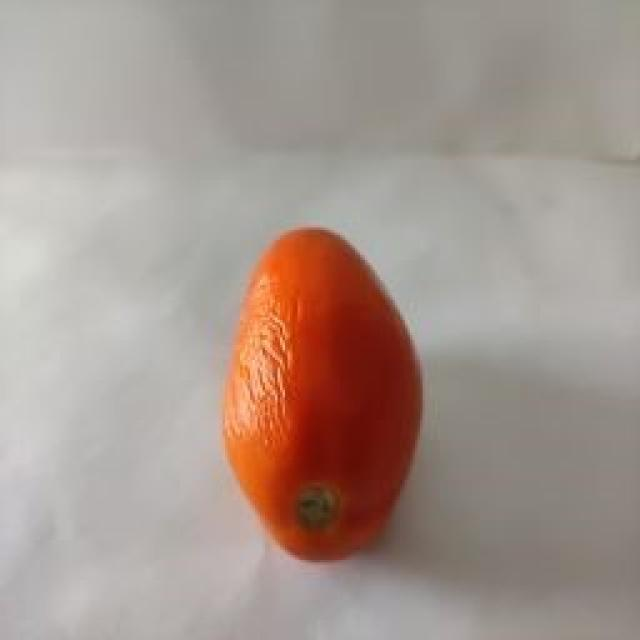Ripe: (218, 229, 427, 564)
